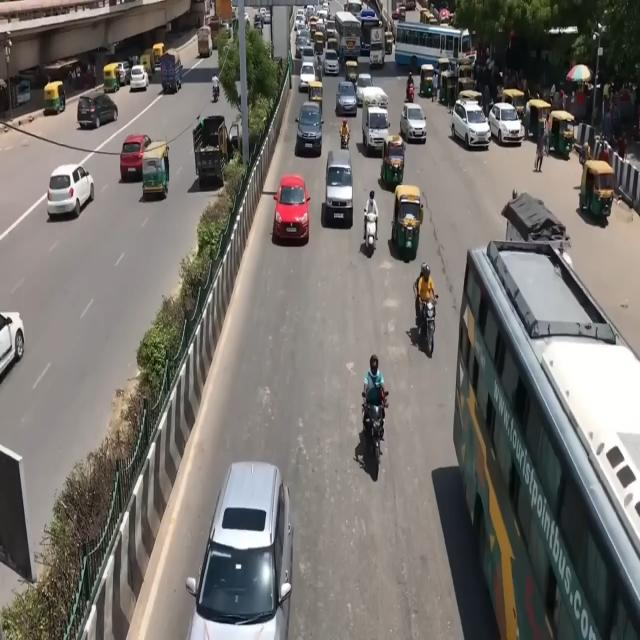auto: (184, 460, 294, 638), (393, 183, 425, 260), (323, 152, 353, 228), (579, 158, 614, 218), (140, 140, 170, 202), (548, 109, 576, 158), (527, 98, 552, 150), (382, 135, 406, 189), (361, 90, 388, 131), (160, 51, 183, 93), (502, 87, 526, 121), (44, 81, 66, 115), (307, 80, 324, 114), (103, 62, 121, 94), (420, 63, 436, 97), (197, 26, 213, 58), (140, 49, 155, 77), (344, 58, 358, 85), (152, 42, 165, 70), (384, 30, 394, 56)
bike-auto: (361, 383, 389, 466), (416, 292, 439, 356), (364, 192, 378, 244), (340, 126, 350, 150), (212, 74, 220, 101)
